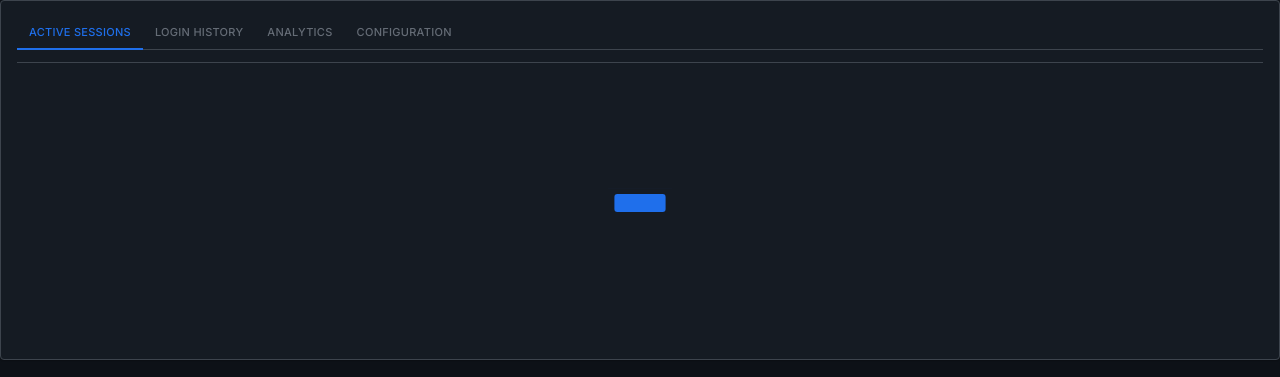
SessionManagementPage › switches to Analytics tab
This screenshot has width=1280, height=377.
Click the tab "Analytics" at (300, 34), box x1=255 y1=17 x2=344 y2=50
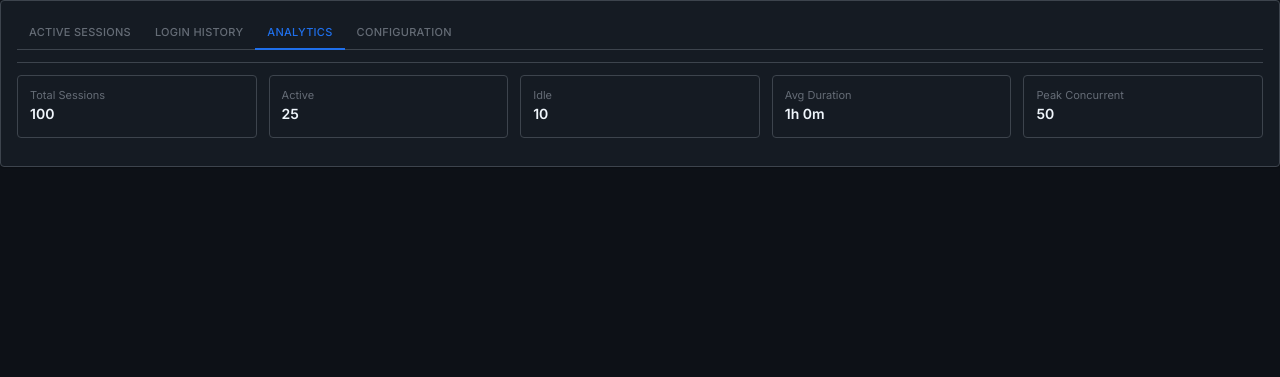
Check: the text "Total Sessions" is shown, box x1=30 y1=88 x2=105 y2=102
